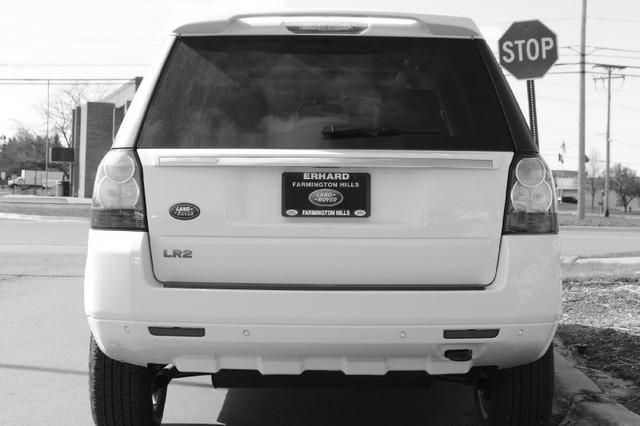car: (83, 10, 560, 425)
